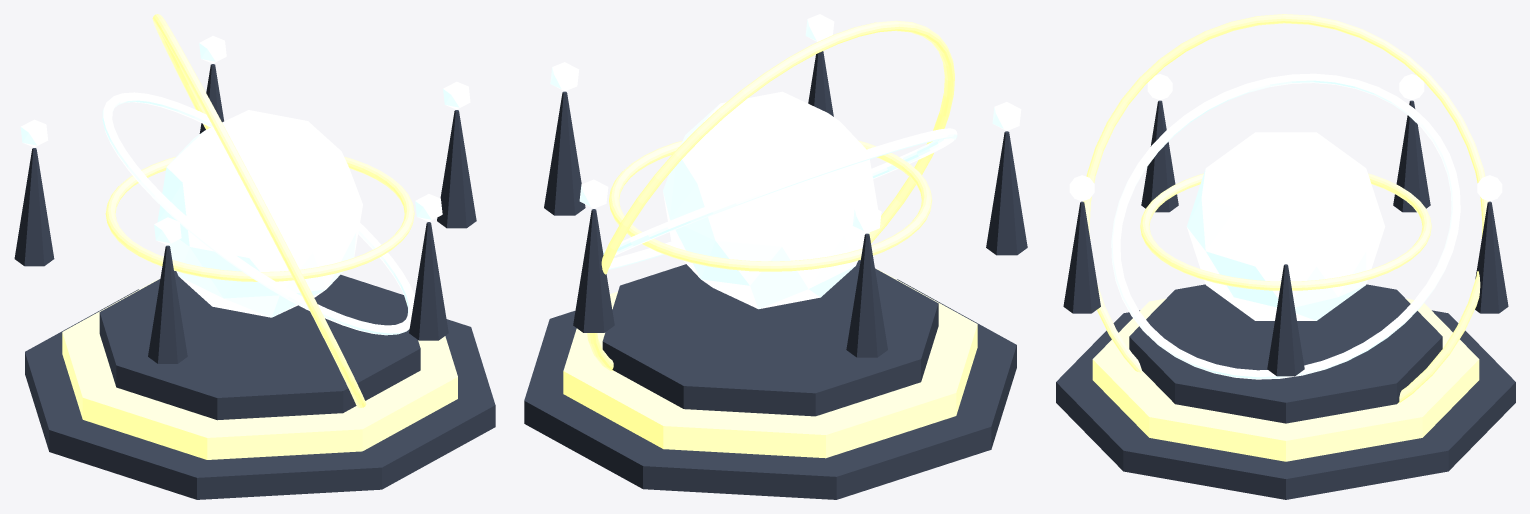
Rendered from gpu-blender-v2.glb.
The picture shows the model from 3 angles, left to right: view 1: azimuth 30°, elevation 25°; view 2: azimuth 150°, elevation 25°; view 3: azimuth 270°, elevation 25°; orthographic projection. The views are drawn at different scales.
Parts seen in each view (by area): view 1: Cylinder.002, SovereignCore_gelato-connector, Cylinder, Cylinder.001, Torus.001, Torus.002, Torus, Cone.002, Cone.004, Cone.003, Cone, Icosphere.001 (+5 smaller); view 2: Cylinder.002, SovereignCore_gelato-connector, Cylinder, Cylinder.001, Torus.002, Torus, Torus.001, Cone.003, Cone.002, Cone, Cone.001, Cone.004 (+5 smaller); view 3: SovereignCore_gelato-connector, Cylinder.002, Cylinder, Cylinder.001, Torus.001, Torus.002, Torus, Cone, Cone.004, Cone.001, Cone.002, Cone.003 (+5 smaller).
Part boxes in pixels (x1,y1,x2,y2): Cylinder.002: (99, 271, 420, 420); SovereignCore_gelato-connector: (157, 110, 362, 317); Cylinder: (25, 289, 495, 499); Cylinder.001: (62, 279, 457, 459); Torus.001: (102, 92, 414, 335); Torus.002: (152, 14, 366, 407); Torus: (105, 156, 414, 281); Cone.002: (14, 148, 54, 266); Cone.004: (409, 222, 448, 340); Cone.003: (148, 245, 187, 363); Cone: (437, 110, 476, 228); Icosphere.001: (199, 36, 226, 63); Cylinder.002: (602, 260, 938, 416); SovereignCore_gelato-connector: (663, 91, 877, 309); Cylinder: (524, 279, 1016, 499); Cylinder.001: (563, 269, 977, 458); Torus.002: (587, 20, 954, 370); Torus: (609, 140, 932, 271); Torus.001: (603, 128, 957, 269); Cone.003: (986, 131, 1027, 255); Cone.002: (846, 233, 887, 357); Cone: (544, 91, 585, 215); Cone.001: (573, 209, 614, 332); Cone.004: (808, 51, 833, 116); SovereignCore_gelato-connector: (1186, 132, 1385, 320); Cylinder.002: (1129, 284, 1442, 423); Cylinder: (1056, 310, 1515, 499); Cylinder.001: (1092, 298, 1479, 461); Torus.001: (1111, 73, 1460, 379); Torus.002: (1083, 14, 1488, 403); Torus: (1140, 173, 1431, 290); Cone: (1267, 264, 1304, 376); Cone.004: (1063, 201, 1100, 313); Cone.001: (1475, 201, 1508, 313); Cone.002: (1393, 100, 1430, 212); Cone.003: (1141, 100, 1178, 212).
Size of the model in its own units: 4.41 by 3.72 by 4.4.
